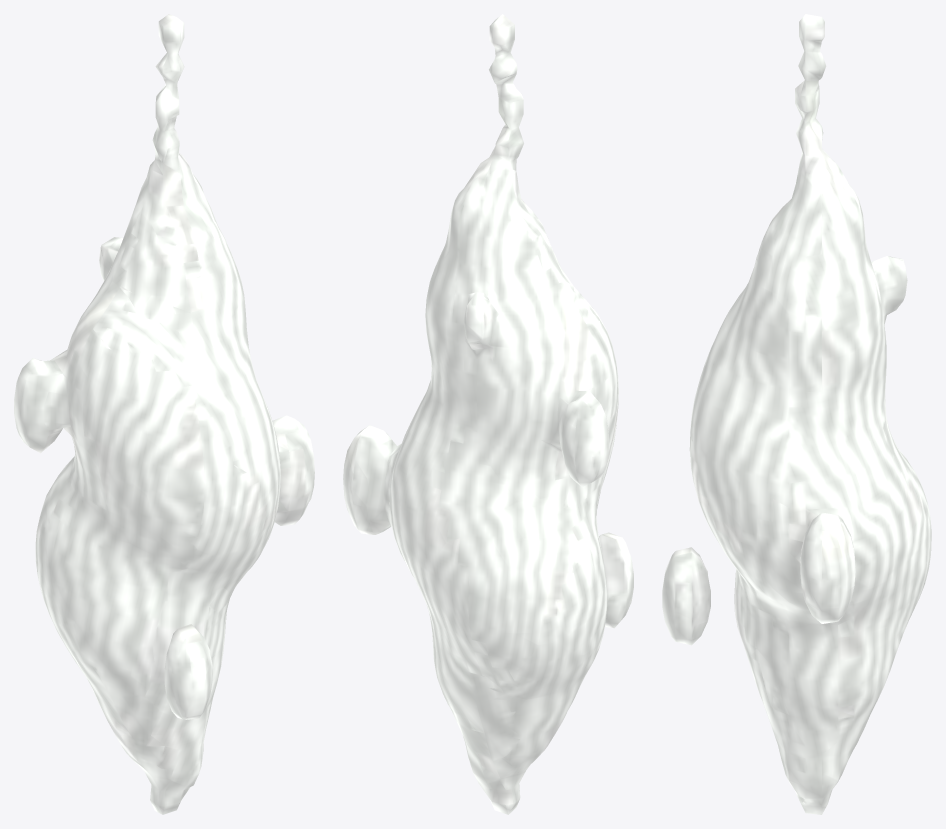
File: presence.glb
The picture shows the model from 3 angles, left to right: view 1: azimuth 30°, elevation 25°; view 2: azimuth 150°, elevation 25°; view 3: azimuth 270°, elevation 25°; orthographic projection.
Visible parts, largest first — view 1: presence; view 2: presence; view 3: presence.
Part boxes in pixels (left/top/right/bottom): presence: left=14, top=14, right=314, bottom=814; presence: left=343, top=14, right=633, bottom=814; presence: left=662, top=14, right=931, bottom=814.
Bounding box in the file's own units: 3.16 × 8.7 × 2.65.
1 material, 1 textured.
